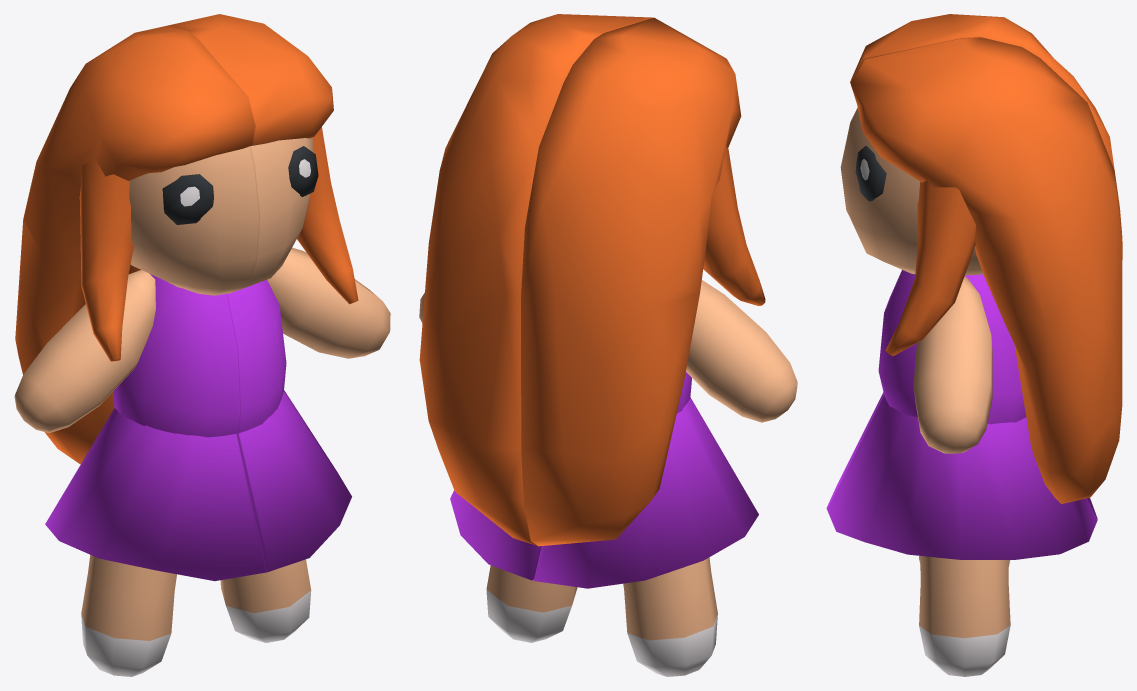
File: SM_Doll_02c.fbx
The picture shows the model from 3 angles, left to right: view 1: azimuth 30°, elevation 25°; view 2: azimuth 150°, elevation 25°; view 3: azimuth 270°, elevation 25°; orthographic projection. The views are drawn at different scales.
Visible parts, largest first — view 1: Doll_02, Doll_01; view 2: Doll_02, Doll_01; view 3: Doll_01, Doll_02.
Part boxes in pixels (x1=…): Doll_02: x1=14, y1=25, x2=266, y2=676; Doll_01: x1=167, y1=14, x2=390, y2=642; Doll_02: x1=521, y1=17, x2=797, y2=676; Doll_01: x1=419, y1=14, x2=652, y2=642; Doll_01: x1=826, y1=37, x2=1122, y2=676; Doll_02: x1=827, y1=14, x2=1121, y2=566.
Size of the model in its own units: 22.94 by 36.96 by 16.5.
